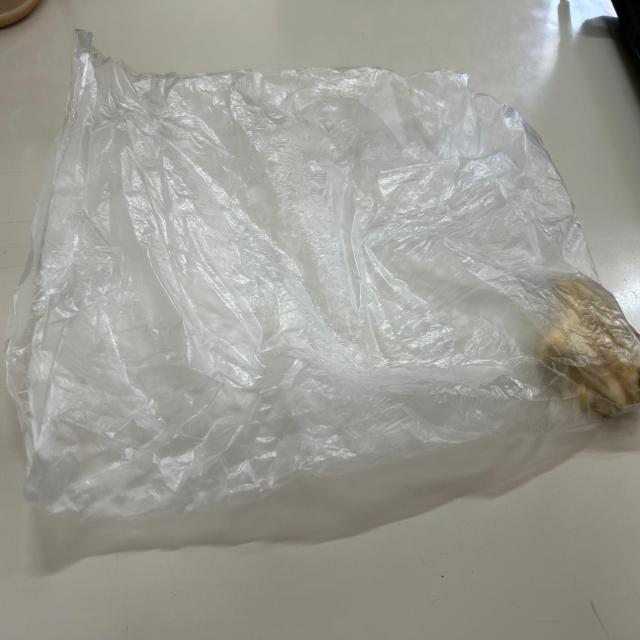inorganic: (4, 29, 640, 521)
